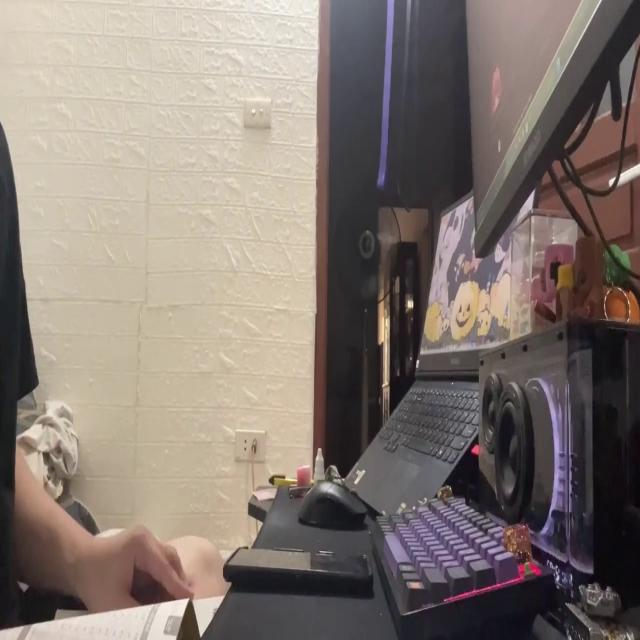book: (4, 593, 224, 640)
laptop: (348, 168, 544, 499), (462, 2, 640, 246)
phone: (218, 538, 376, 602)
student: (0, 122, 228, 640)
